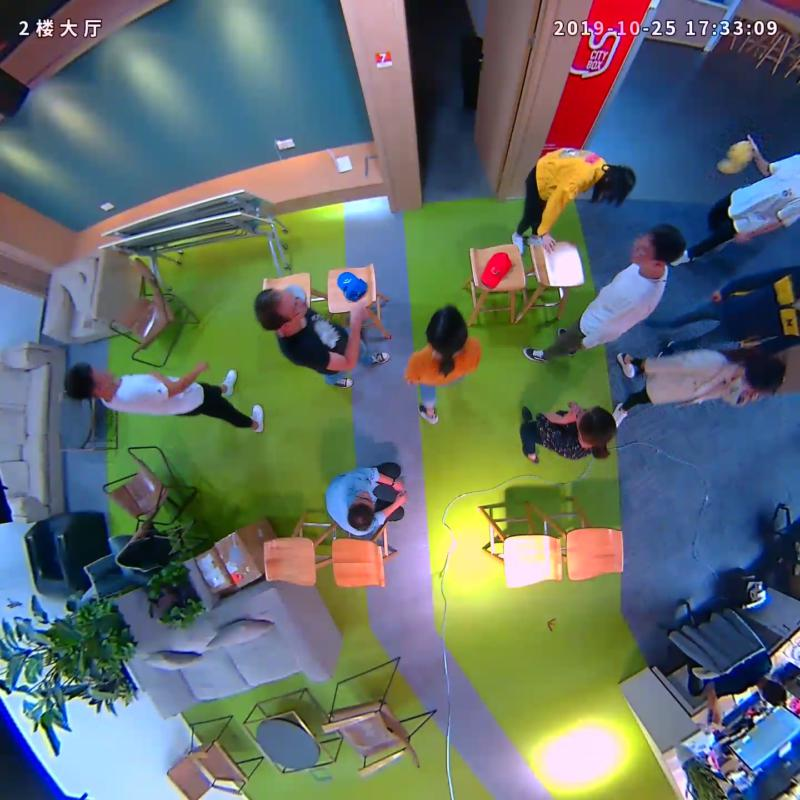head: (627, 213, 701, 289), (251, 280, 318, 337), (57, 356, 124, 412), (567, 402, 628, 459), (737, 348, 797, 401), (421, 301, 475, 356), (595, 160, 642, 207), (342, 495, 389, 541)
